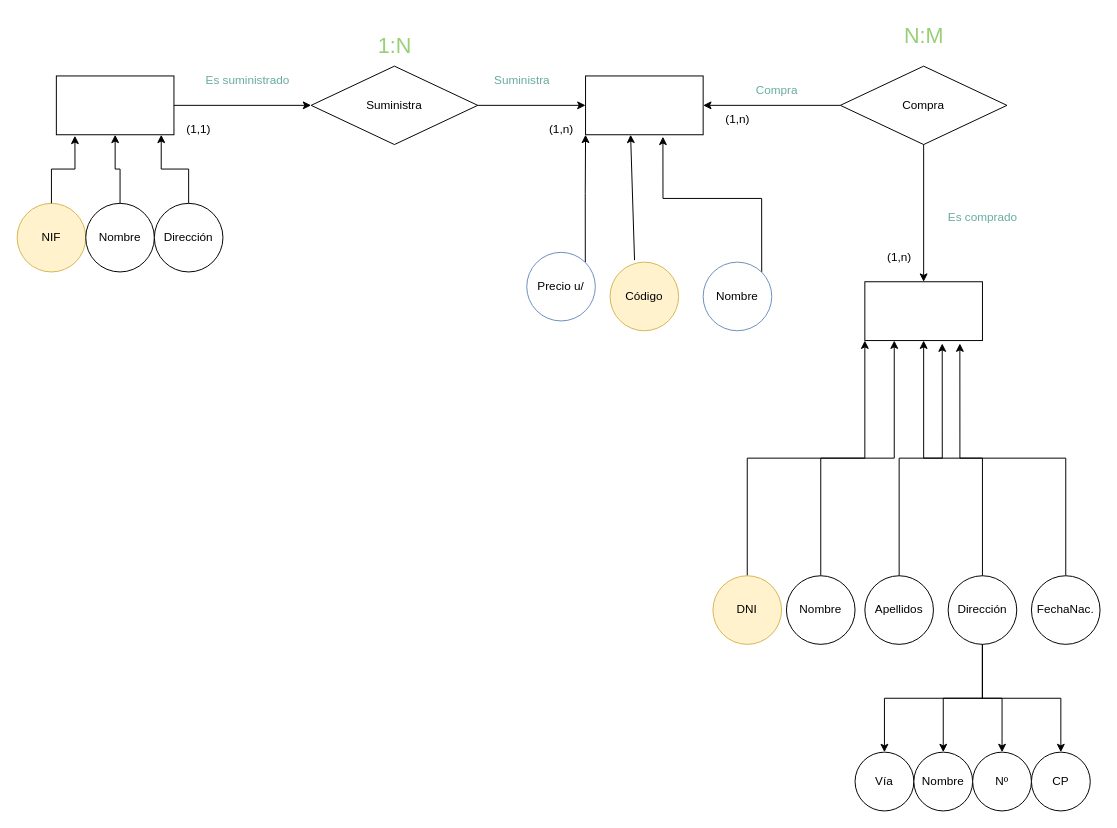
Some shapes in this 1117 by 828 pixel diagram are drawn without their labels. The centre of each missing label's shape, as x and y in pixels:
Cliente: (x=923, y=311)
Producto: (x=644, y=105)
Proveedor: (x=114, y=105)
